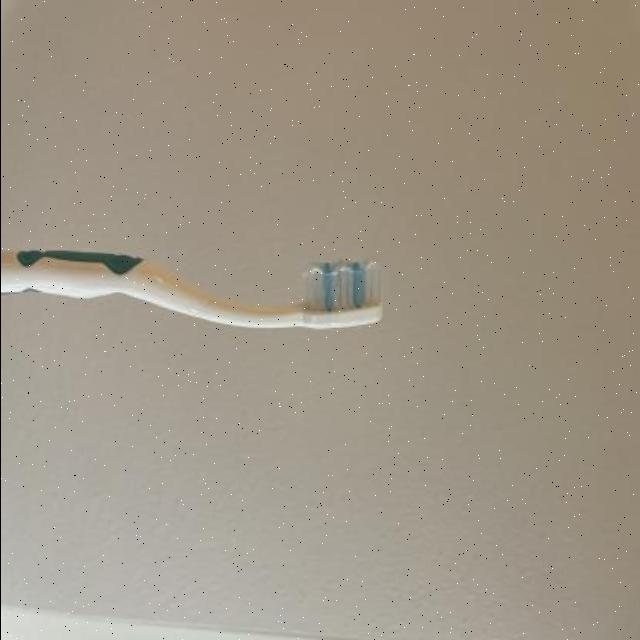toothbrush: (1, 235, 396, 339)
